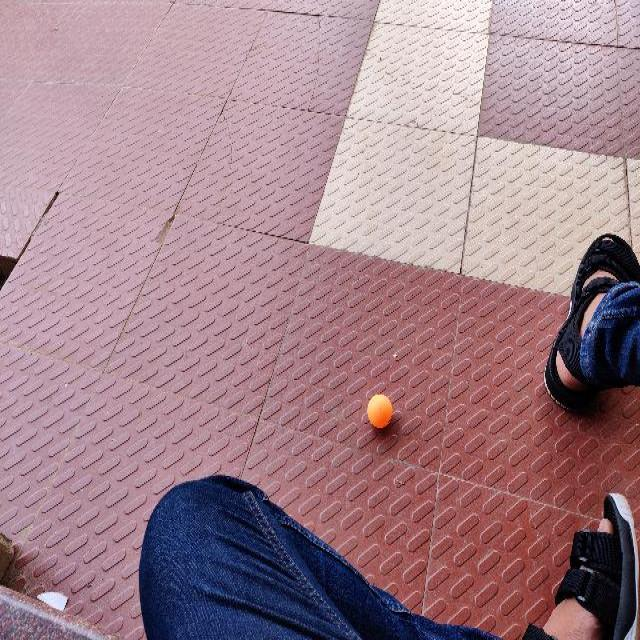oball: (368, 396, 392, 428)
